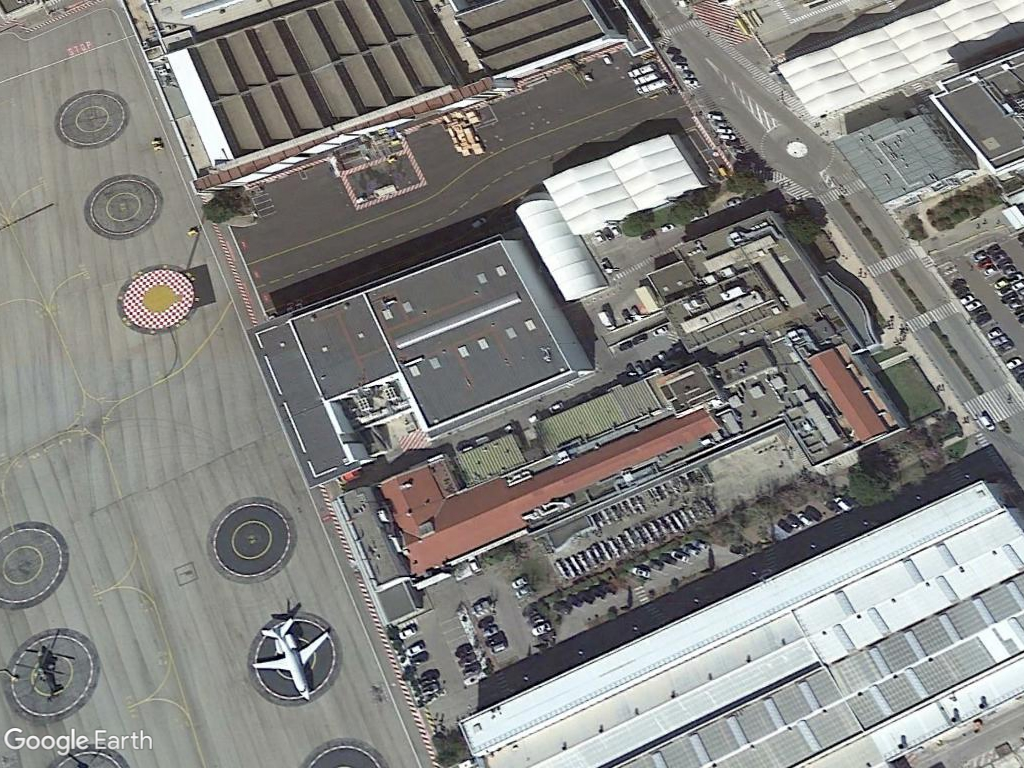chartered: (249, 612, 334, 707)
helicopter: (12, 637, 69, 703)
